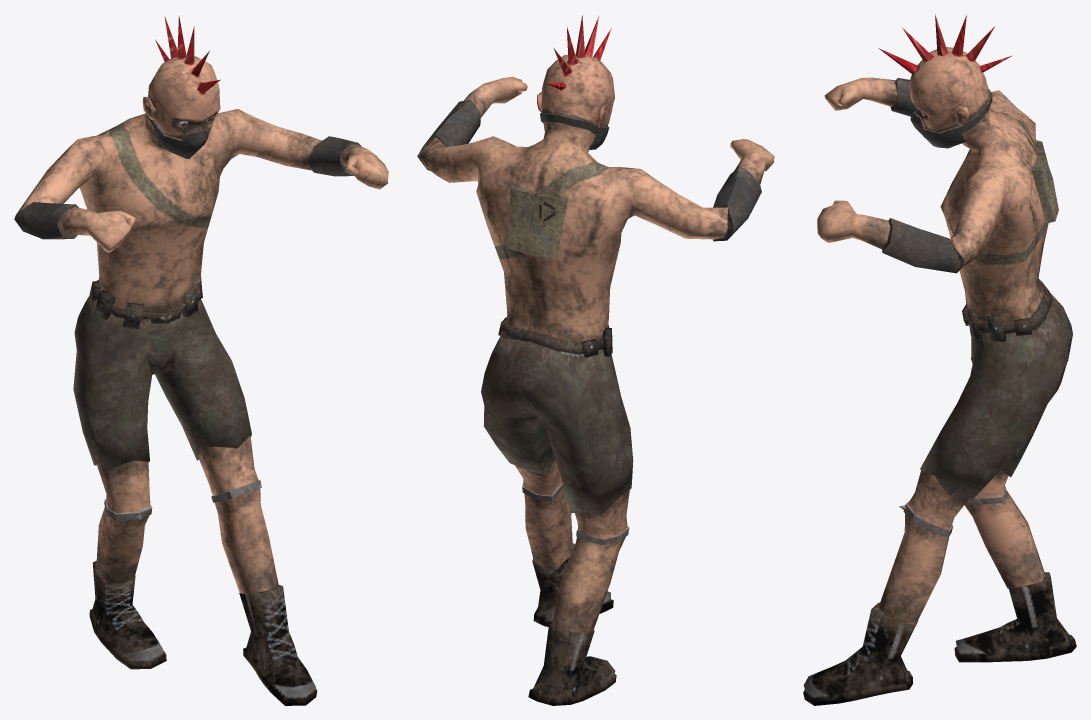
File: Anim_ataque_d3_npc2.0048.obj
3 views of the same model, side by side, from view 1: azimuth 30°, elevation 25°; view 2: azimuth 150°, elevation 25°; view 3: azimuth 270°, elevation 25° (orthographic). The views are drawn at different scales.
Visible parts, largest first — view 1: polySurface1; view 2: polySurface1; view 3: polySurface1.
Part boxes in pixels (<box>): polySurface1: <box>14,15,388,705</box>; polySurface1: <box>417,15,774,705</box>; polySurface1: <box>803,14,1076,705</box>.
Bounding box in the file's own units: 5.09 × 9.81 × 3.68.
